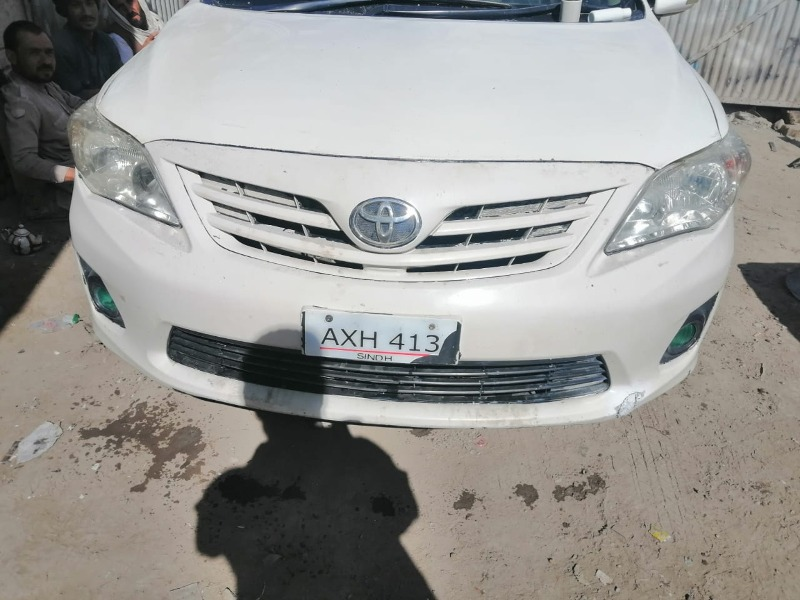License Plate: (299, 306, 466, 370)
